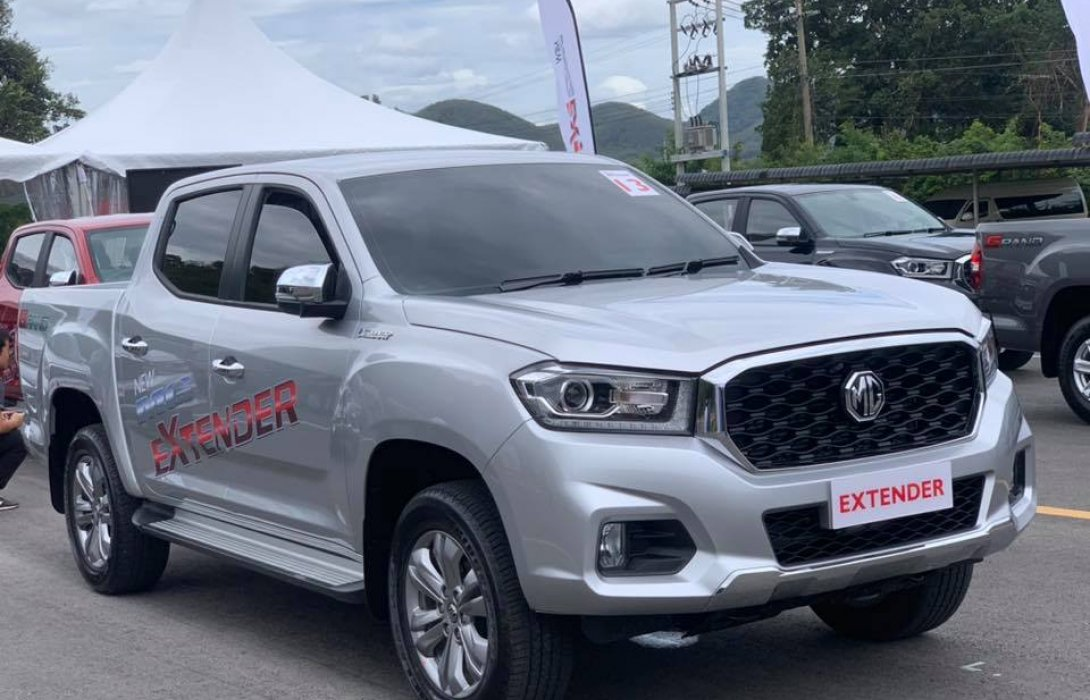pickup: (18, 143, 1042, 688)
